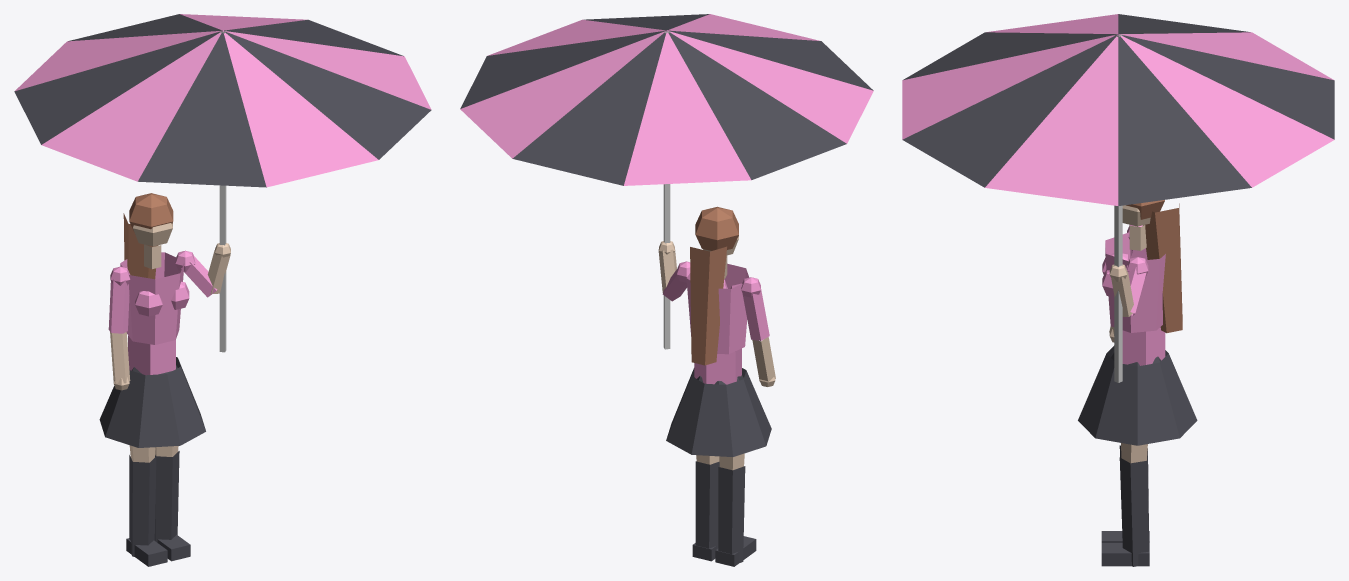
Rendered from angel_umbrella.glb.
The picture shows the model from 3 angles, left to right: view 1: azimuth 30°, elevation 25°; view 2: azimuth 150°, elevation 25°; view 3: azimuth 270°, elevation 25°; orthographic projection. The views are drawn at different scales.
Visible parts, largest first — view 1: angel_umbrella; view 2: angel_umbrella; view 3: angel_umbrella.
Part boxes in pixels (<box>): angel_umbrella: <box>14,14,431,566</box>; angel_umbrella: <box>460,14,873,566</box>; angel_umbrella: <box>902,14,1334,566</box>.
Bounding box in the file's own units: 1.81 × 2.42 × 1.72.
